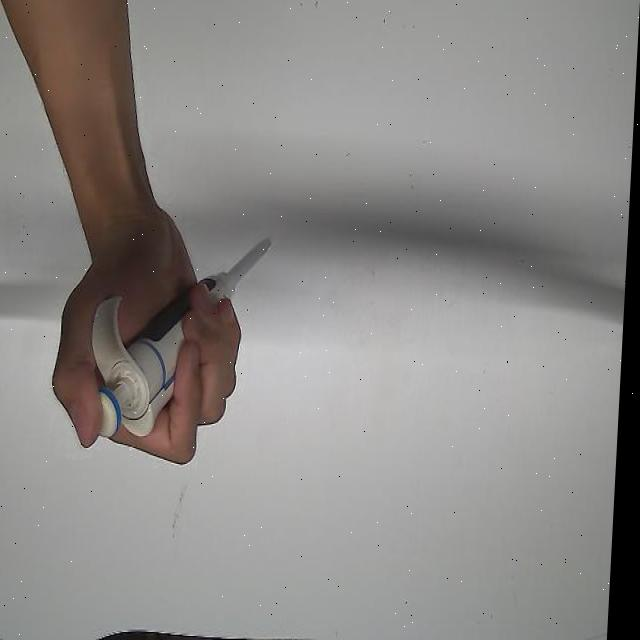Single Channel Pipettor: (84, 231, 279, 443)
